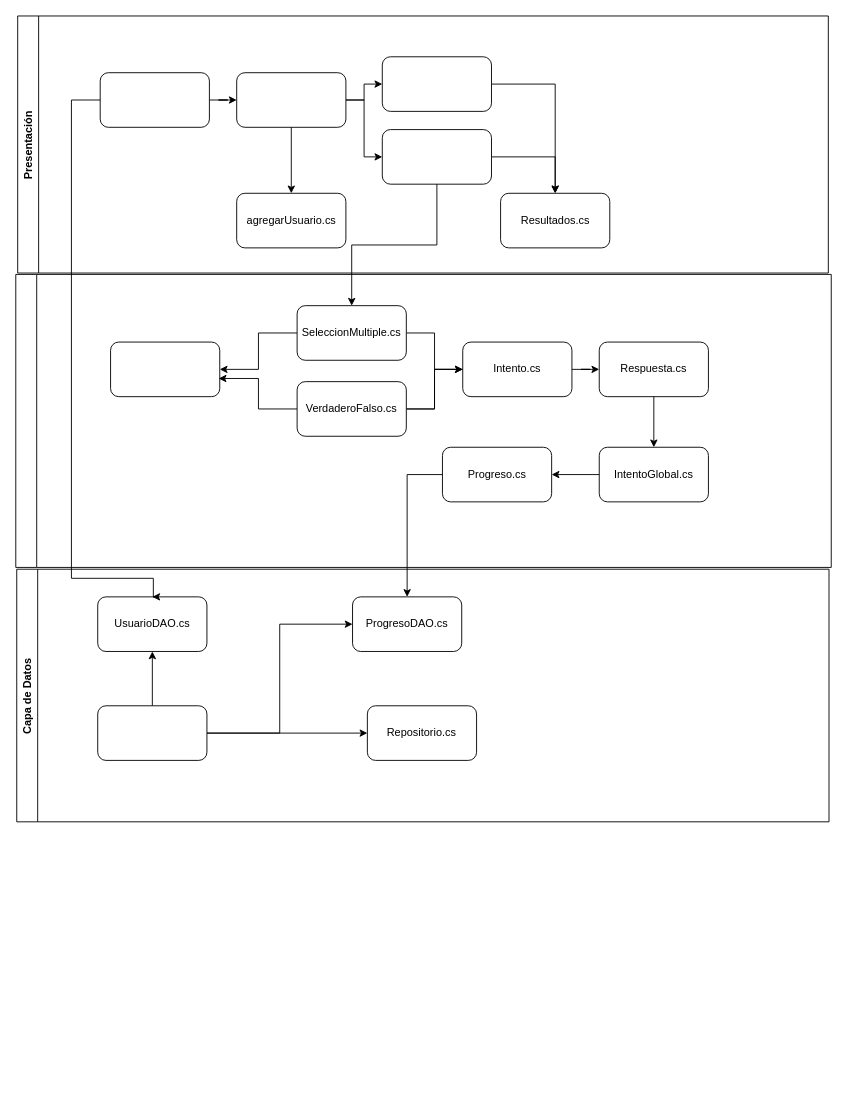
Some shapes in this 848 by 1117 pixel diagram are drawn without their labels. The shapes that lost their labels are listed below. From the top down, each one's box as (x1, y1, x2, y2) in pixels, then its label:
(99, 72, 209, 127): logind.cs
(236, 72, 346, 127): Menu.cs
(381, 56, 491, 111): Englis _check.cs
(381, 129, 491, 184): juego de ingles.cs
(110, 341, 220, 397): Actividad.cs
(15, 273, 831, 567): Lógica de Negocio
(97, 705, 207, 760): ConexionDB.cs
